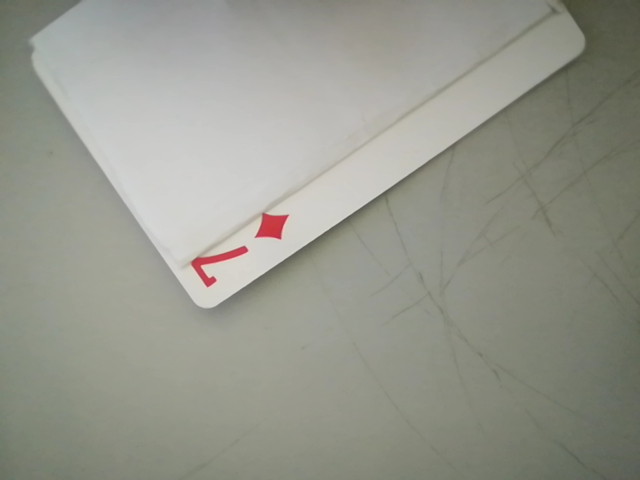fk 7: (180, 209, 300, 303)
